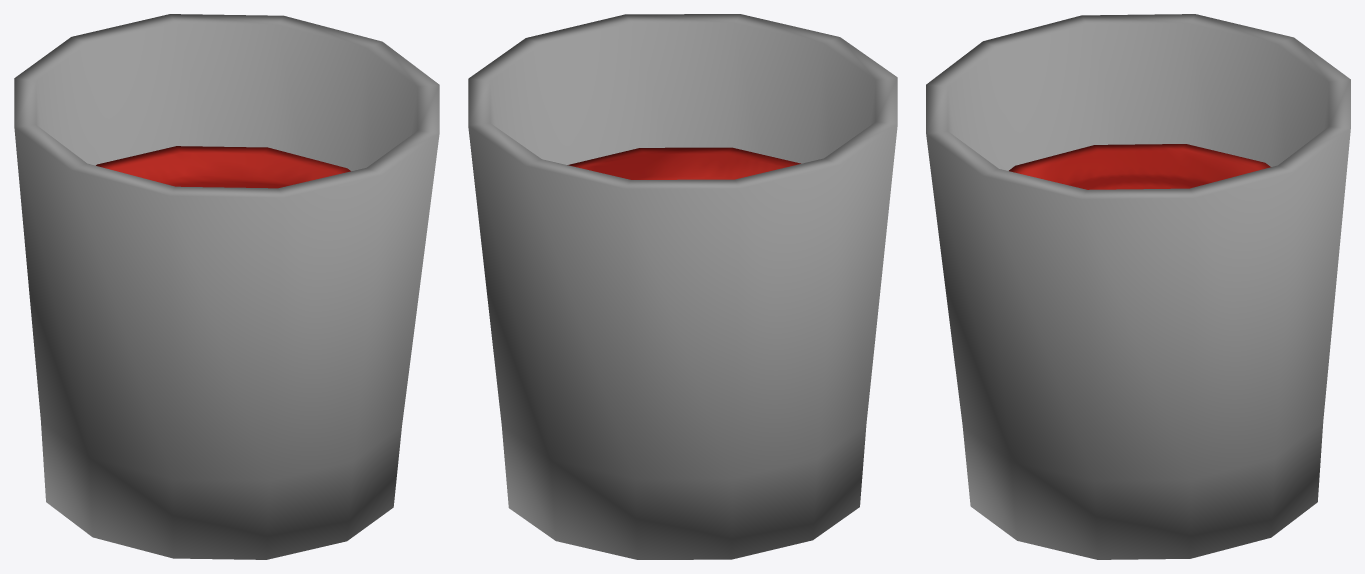
File: WineCup.FBX
3 views of the same model, side by side, from view 1: azimuth 30°, elevation 25°; view 2: azimuth 150°, elevation 25°; view 3: azimuth 270°, elevation 25° (orthographic).
Visible parts, largest first — view 1: WineCup, Liquid; view 2: WineCup, Liquid; view 3: WineCup, Liquid.
Boxes of the visible parts, x1=… form: WineCup: x1=14, y1=14, x2=439, y2=559; Liquid: x1=96, y1=146, x2=350, y2=188; WineCup: x1=468, y1=14, x2=897, y2=559; Liquid: x1=567, y1=147, x2=800, y2=179; WineCup: x1=926, y1=14, x2=1350, y2=559; Liquid: x1=1009, y1=144, x2=1270, y2=189.
Size of the model in its own units: 17.26 by 17.31 by 17.26.
